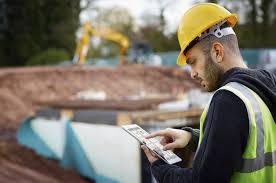Hard Hat: (174, 2, 240, 64)
High Viz: (187, 83, 275, 183)
